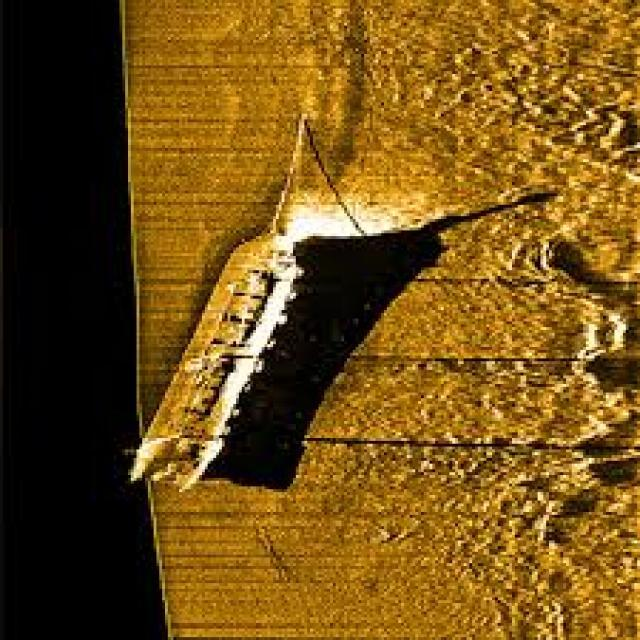shipwreck: (119, 164, 316, 486)
